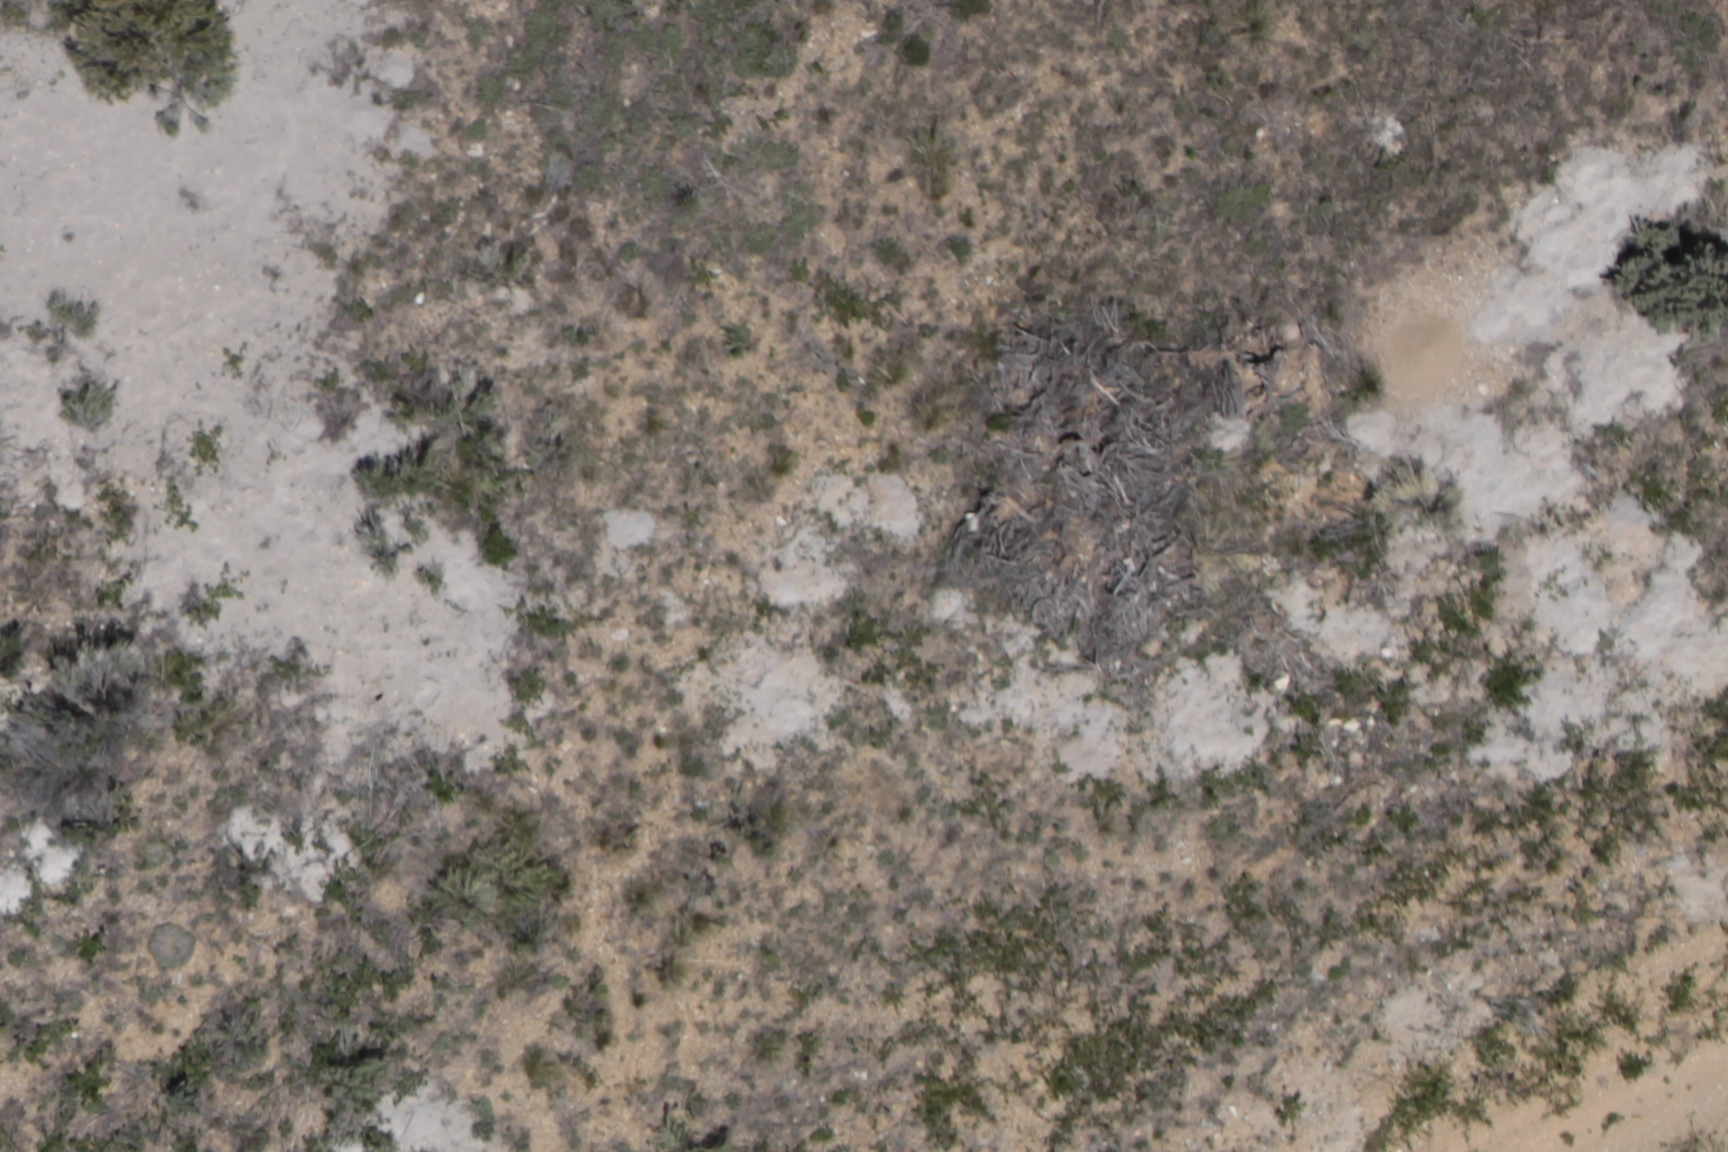burrow: (1364, 296, 1477, 410)
